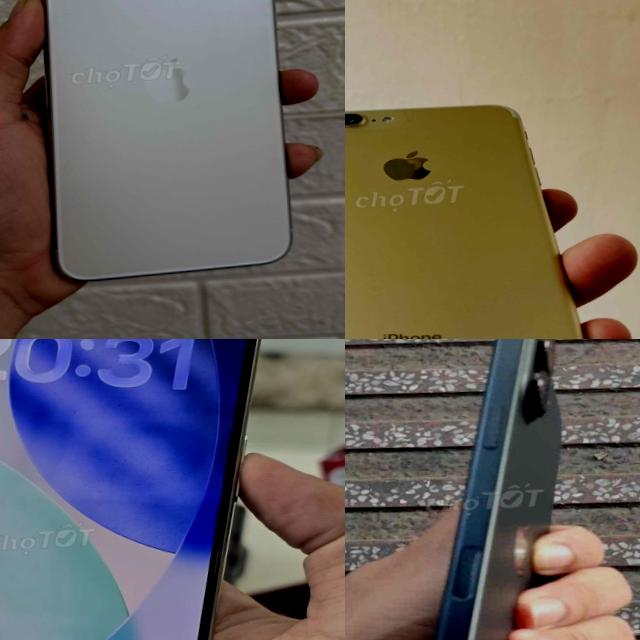gen_11: (23, 0, 307, 287)
gen_16: (0, 339, 259, 640), (386, 339, 604, 640)
gen_7_8: (345, 106, 581, 339)
